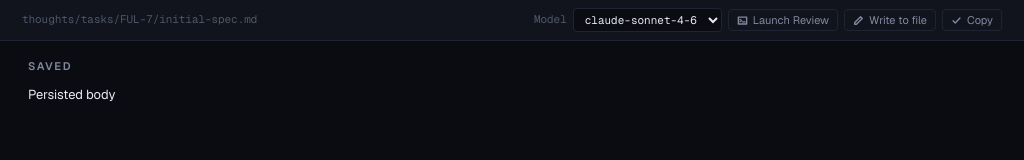
SpecTab › shows write progress then disables after saving
The width and height of the screenshot is (1024, 160).
Click the button "Write to file". click: (890, 20)
box: x1=844 y1=9 x2=936 y2=31
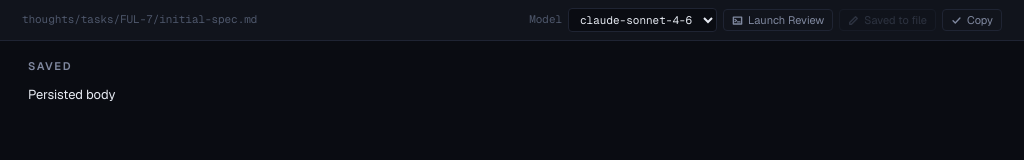
Check: the button named "Writing..." is disabled, box x1=839 y1=9 x2=936 y2=31
Check: the button "Saved to file" is disabled, box x1=839 y1=9 x2=936 y2=31
